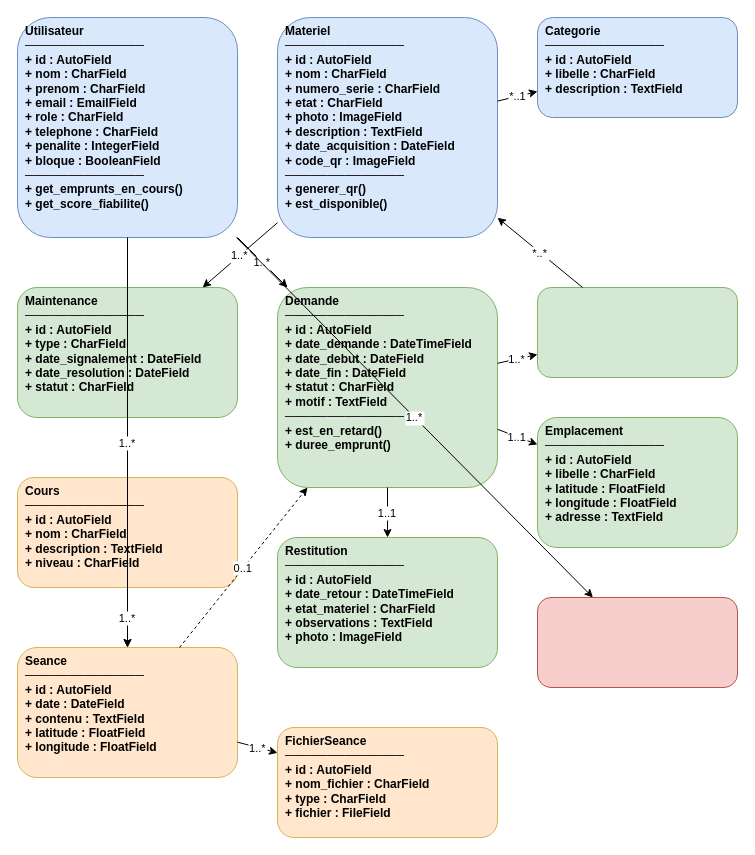
This 755x855 diagram has some shape labels left out. The shapes that lost their labels are listed below. From the top down, each one's centre as x and y in pixels, then its label:
At [637,332]: "LigneDemande ────────────── + id : AutoField + quantite : IntegerField".
At [637,642]: "Log ────────────── + id : AutoField + action : CharField + date : DateTimeField".
